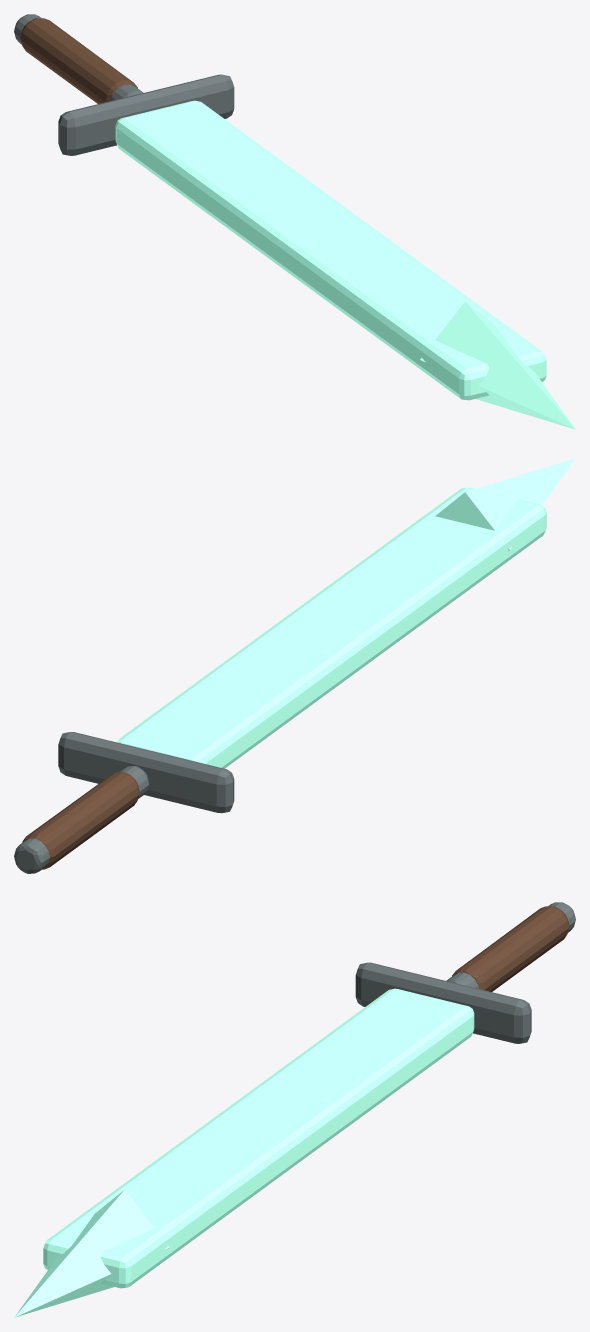
The model's file is wpn_flying_sword_qi_a.glb.
The picture shows the model from 3 angles, top to bottom: view 1: azimuth 30°, elevation 25°; view 2: azimuth 150°, elevation 25°; view 3: azimuth 330°, elevation 25°; orthographic projection.
Parts seen in each view (by area): view 1: qi_flying_sword_blade, qi_flying_sword_tip, qi_flying_sword_guard, qi_flying_sword_grip_wrap, qi_flying_sword_grip; view 2: qi_flying_sword_blade, qi_flying_sword_guard, qi_flying_sword_grip_wrap, qi_flying_sword_tip, qi_flying_sword_grip; view 3: qi_flying_sword_blade, qi_flying_sword_tip, qi_flying_sword_guard, qi_flying_sword_grip_wrap, qi_flying_sword_grip.
Boxes of the visible parts, box(x1,y1,x2,y2) form: qi_flying_sword_blade: box(115, 100, 546, 400); qi_flying_sword_tip: box(420, 301, 575, 429); qi_flying_sword_guard: box(58, 74, 234, 155); qi_flying_sword_grip_wrap: box(20, 18, 137, 103); qi_flying_sword_grip: box(14, 14, 143, 100); qi_flying_sword_blade: box(117, 487, 546, 768); qi_flying_sword_guard: box(58, 732, 234, 813); qi_flying_sword_grip_wrap: box(22, 772, 139, 869); qi_flying_sword_tip: box(435, 458, 575, 551); qi_flying_sword_grip: box(14, 766, 149, 873); qi_flying_sword_blade: box(43, 988, 474, 1288); qi_flying_sword_tip: box(14, 1189, 169, 1317); qi_flying_sword_guard: box(355, 962, 531, 1043); qi_flying_sword_grip_wrap: box(452, 906, 569, 991); qi_flying_sword_grip: box(446, 902, 575, 988).
Bounding box in the file's own units: 0.26 × 0.1352 × 1.43.
